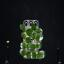leaf: (36, 50, 46, 60), (26, 28, 33, 36), (29, 42, 36, 50), (36, 34, 43, 42), (36, 42, 42, 50), (30, 51, 36, 59), (20, 32, 26, 39), (20, 42, 26, 49), (20, 24, 25, 32), (26, 52, 32, 58), (36, 28, 42, 34), (20, 49, 25, 56), (26, 42, 30, 50), (30, 34, 35, 40), (22, 33, 26, 39), (26, 37, 30, 43), (32, 24, 36, 30), (22, 50, 26, 55), (36, 29, 40, 33), (34, 32, 36, 39), (24, 44, 26, 47), (24, 29, 26, 31)
